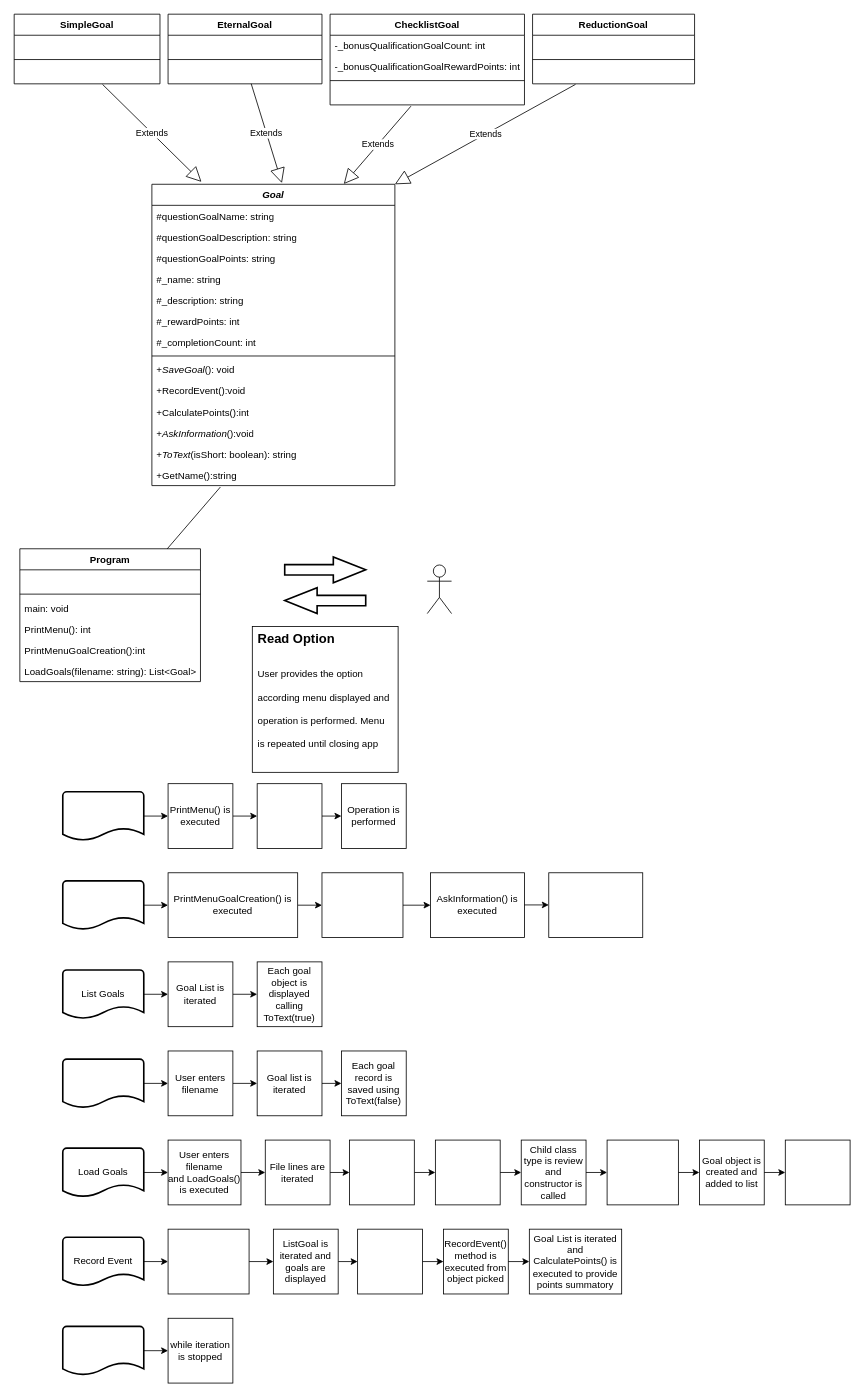
This 864x1397 diagram has some shape labels left out. The centre of each missing label's shape, as x and y in pixels:
Actor: the point at 439,589
Based on goal selection respective Class and constrcutor are invoked: the point at 362,905
Create new goal: the point at 103,905
Each file line is splitted by ',': the point at 381,1172
If there's missing arguments, additional vars are loaded from split: the point at 642,1172
new goal list is returned and load in main method: the point at 817,1172
New goal object is added to goal list: the point at 595,905
Quit: the point at 103,1350
Save Goals: the point at 103,1083
temp vars are initiated/resetted: the point at 208,1261
User picks a goal record event: the point at 389,1261
User picks option from main menu: the point at 289,815
Values shared by all child classes are load in temp vars: the point at 467,1172
Write entry at menu: the point at 103,816
